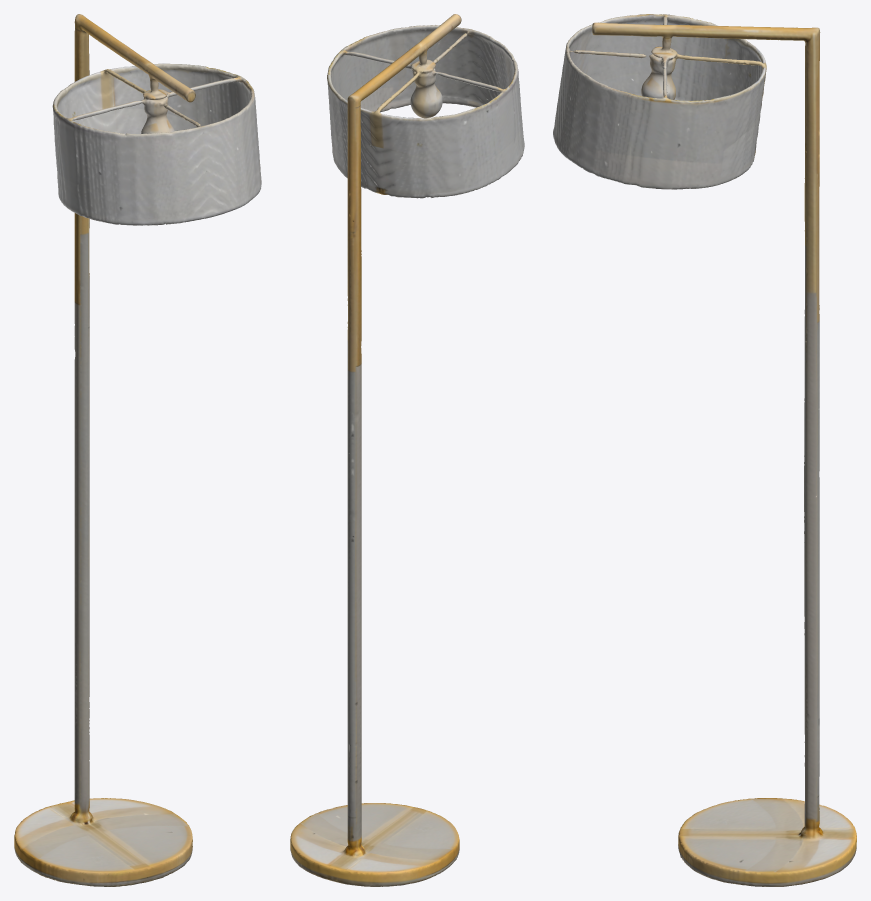
The model's file is Golden_Floor_Lamp.glb.
3 views of the same model, side by side, from view 1: azimuth 30°, elevation 25°; view 2: azimuth 150°, elevation 25°; view 3: azimuth 270°, elevation 25° (orthographic). The views are drawn at different scales.
Bounding box in the file's own units: 0.4487 × 2 × 0.6656.
Materials: 1 (1 with a texture image).
